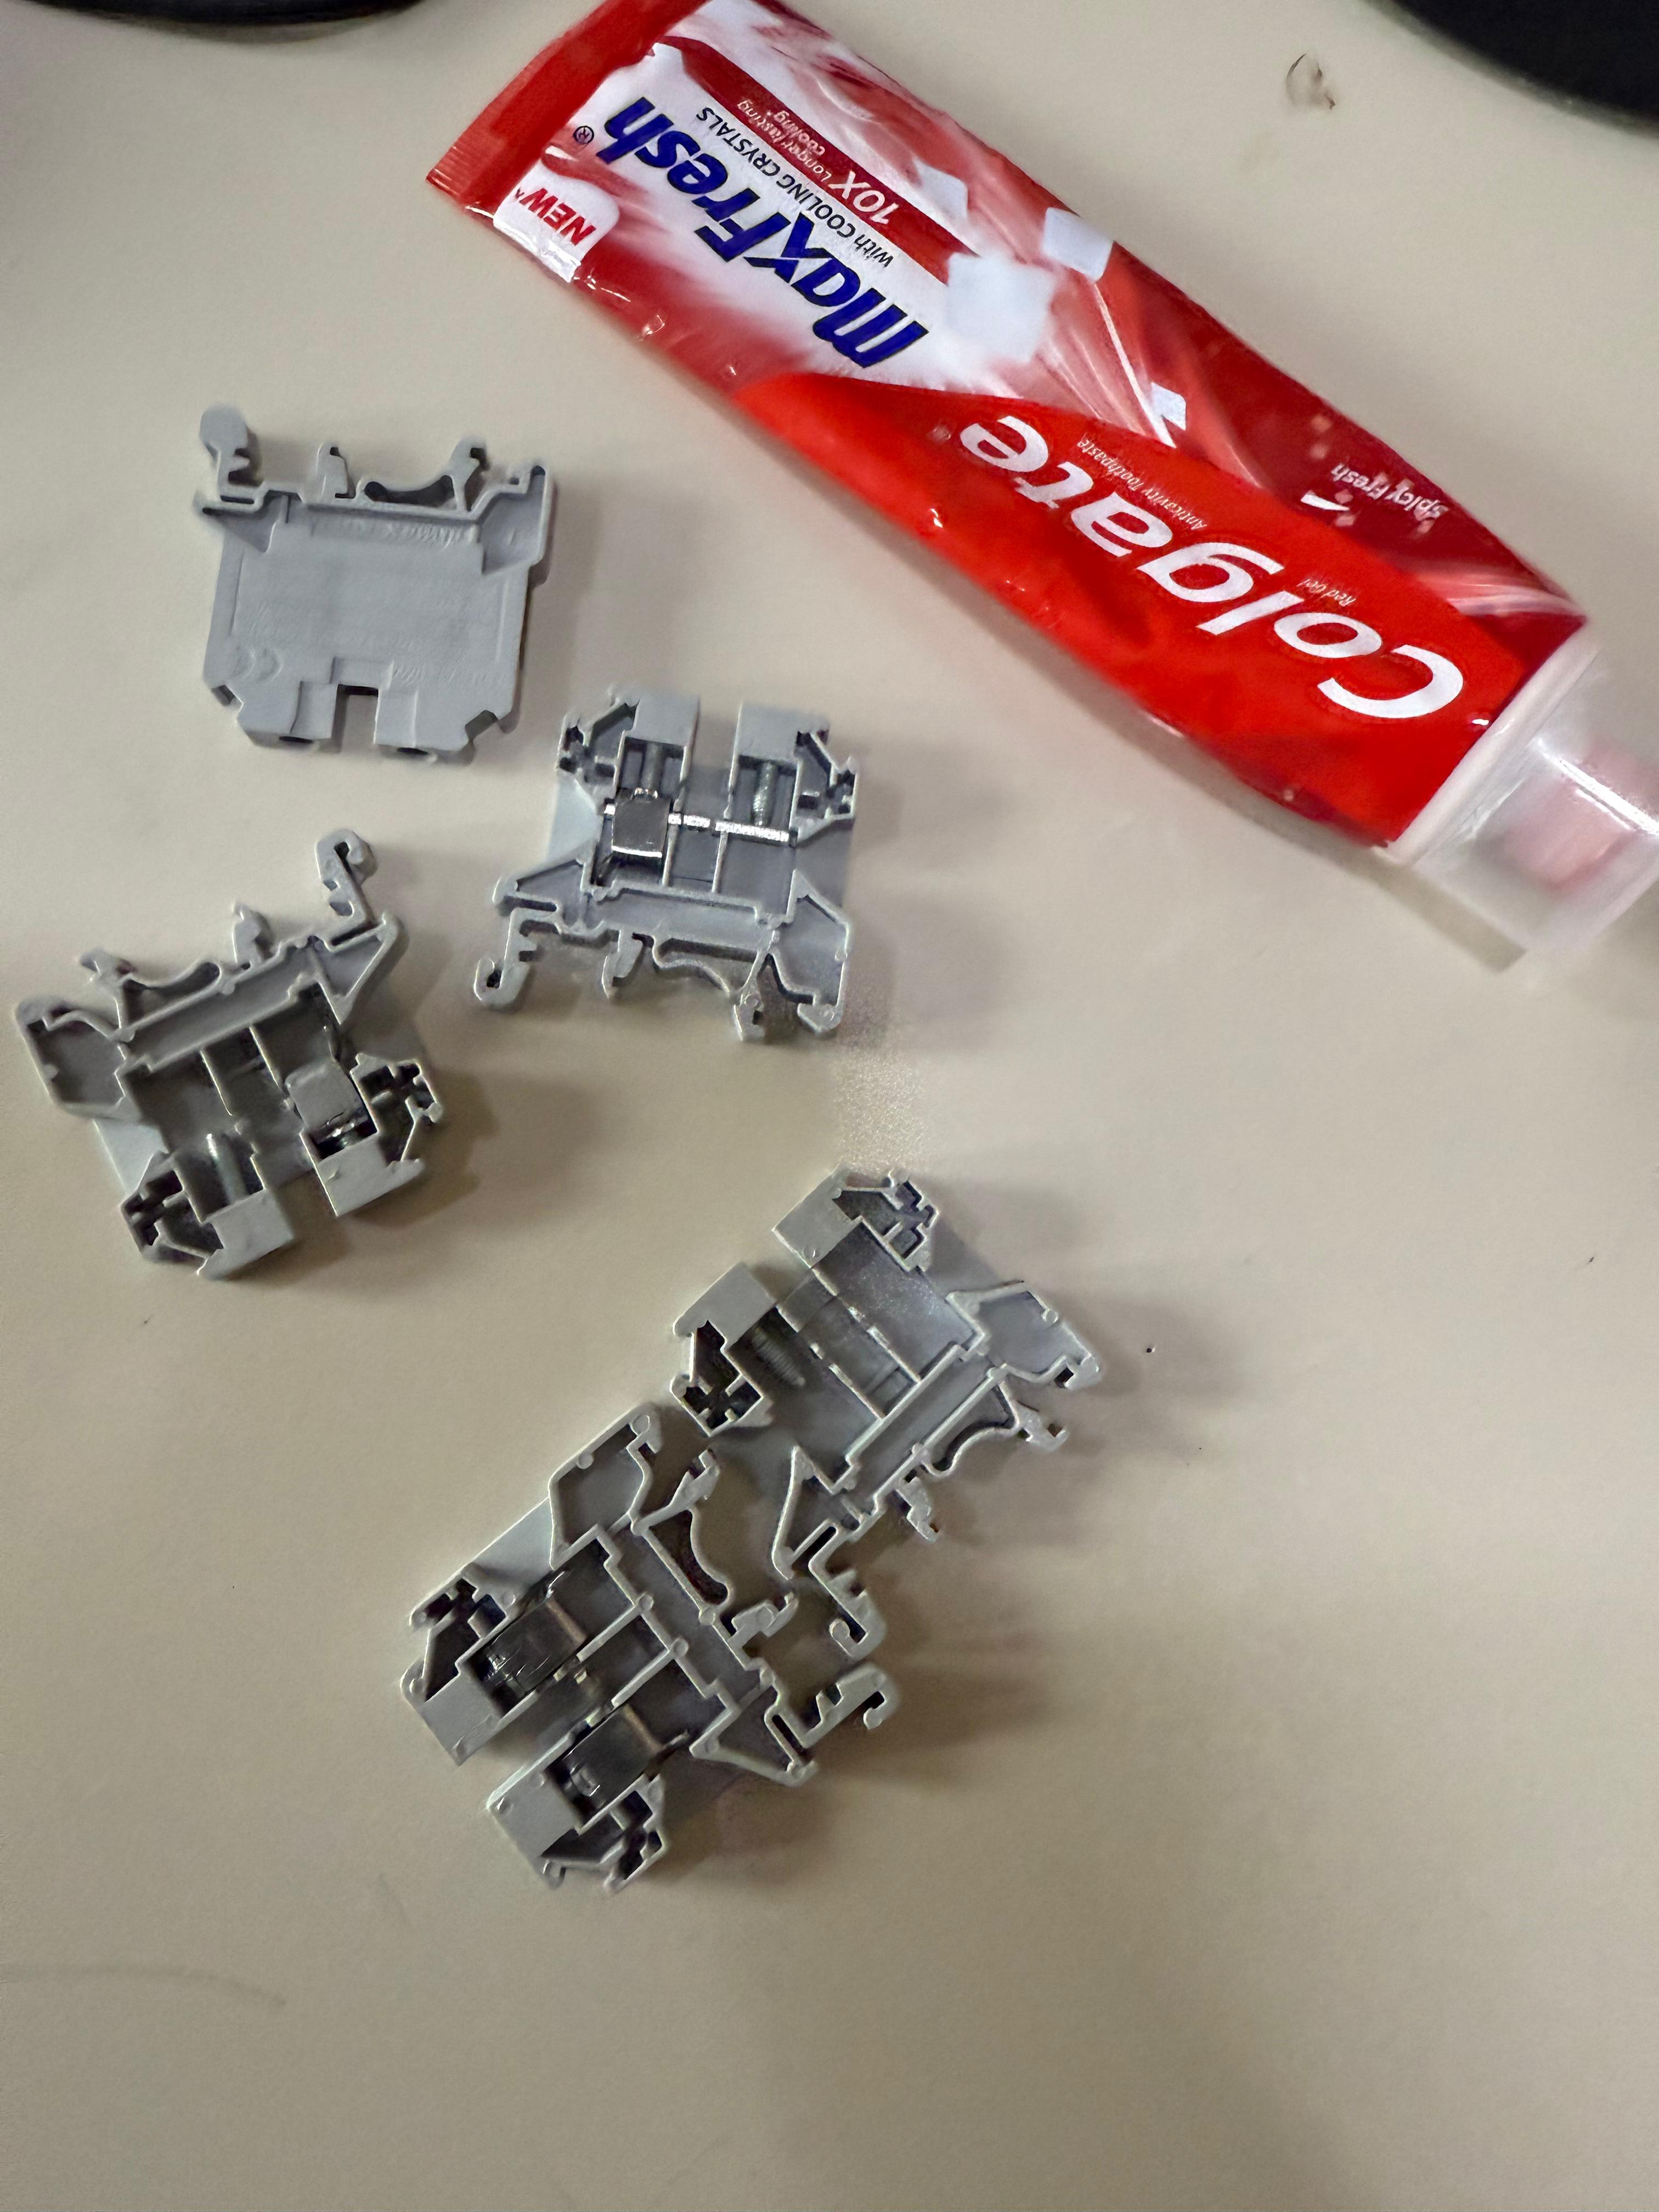Inverted: (192, 402, 554, 758)
Pass: (389, 1404, 896, 1890)
Reject: (19, 827, 444, 1263), (666, 1160, 1107, 1541), (472, 683, 878, 1036)
